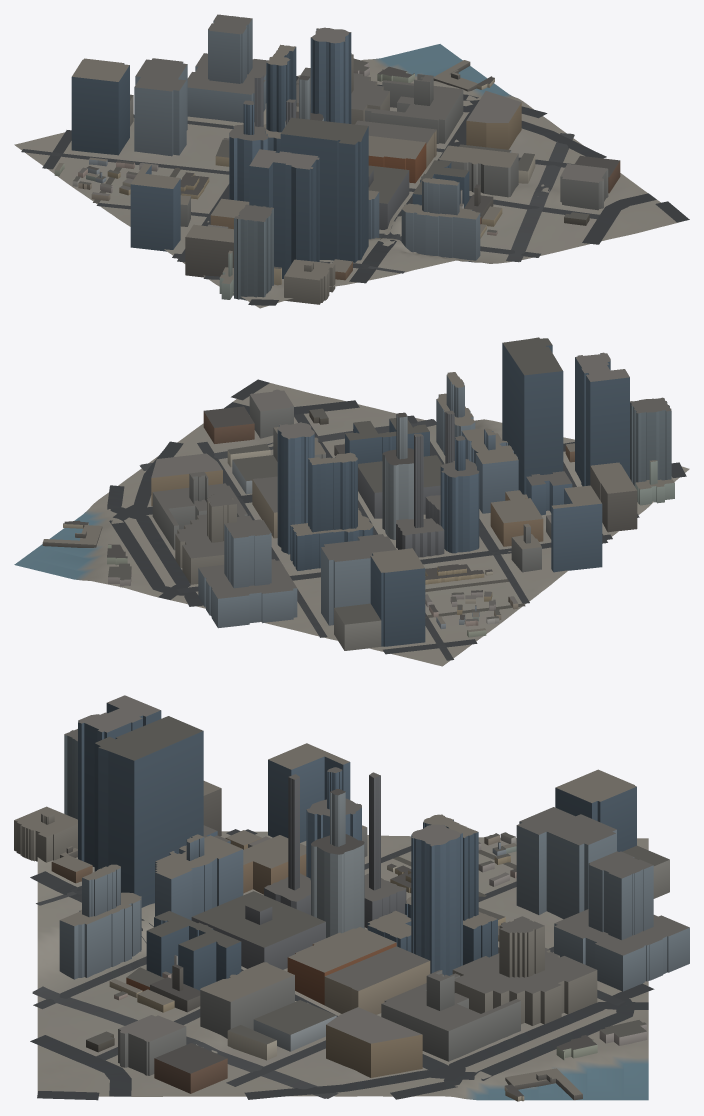
The picture shows the model from 3 angles, top to bottom: view 1: azimuth 30°, elevation 25°; view 2: azimuth 150°, elevation 25°; view 3: azimuth 270°, elevation 25°; orthographic projection. The views are drawn at different scales.
Visible parts, largest first — view 1: buildings, ground, roads, freeways; view 2: buildings, ground, roads, freeways; view 3: buildings, ground, roads, freeways.
Boxes of the visible parts, x1,y1,x2,y2 form: buildings: (54, 14, 620, 304); ground: (14, 44, 681, 308); roads: (21, 76, 689, 305); freeways: (368, 133, 574, 273); buildings: (42, 337, 674, 650); ground: (14, 383, 689, 666); roads: (107, 379, 686, 660); freeways: (139, 419, 436, 470); buildings: (14, 695, 689, 1101); ground: (37, 831, 648, 1100); roads: (30, 829, 654, 1100); freeways: (32, 891, 338, 1098).
Size of the model in its own units: 532 by 154 by 553.
